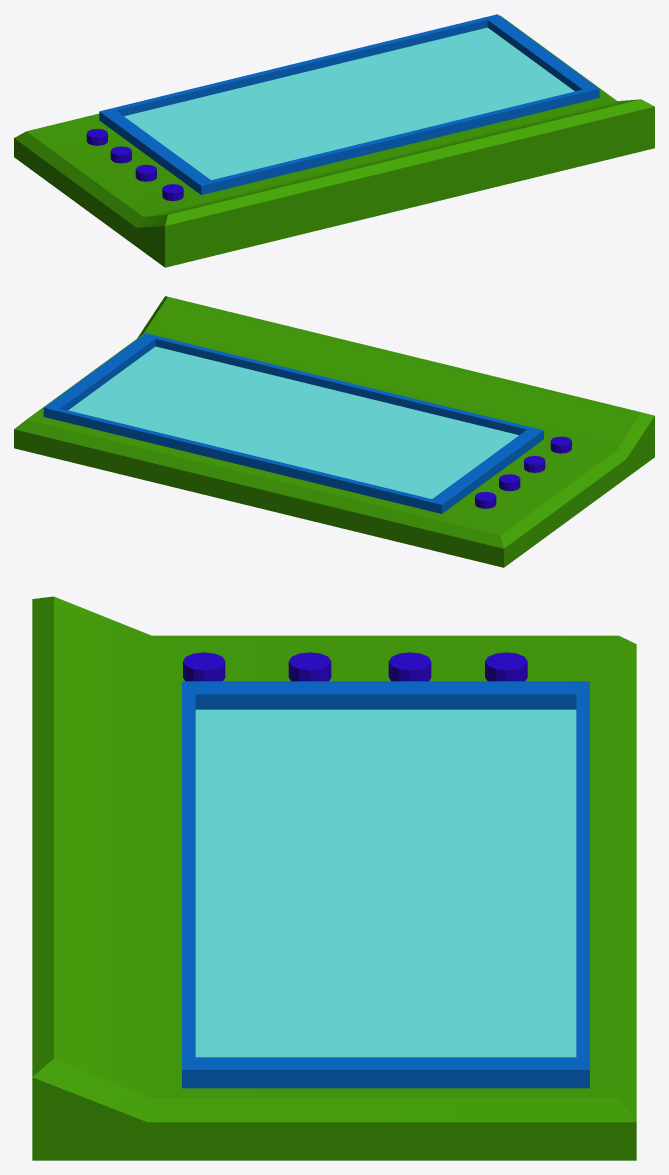
File: Key_board.fbx
3 views of the same model, one above another, from view 1: azimuth 30°, elevation 25°; view 2: azimuth 150°, elevation 25°; view 3: azimuth 270°, elevation 25° (orthographic). The views are drawn at different scales.
Visible parts, largest first — view 1: Key_Board; view 2: Key_Board; view 3: Key_Board.
Part boxes in pixels (box(x1,y1,x2,y2)): Key_Board: box(14, 14, 654, 267); Key_Board: box(14, 296, 654, 567); Key_Board: box(32, 596, 636, 1160).
Size of the model in its own units: 1 by 0.0916 by 0.5342.
